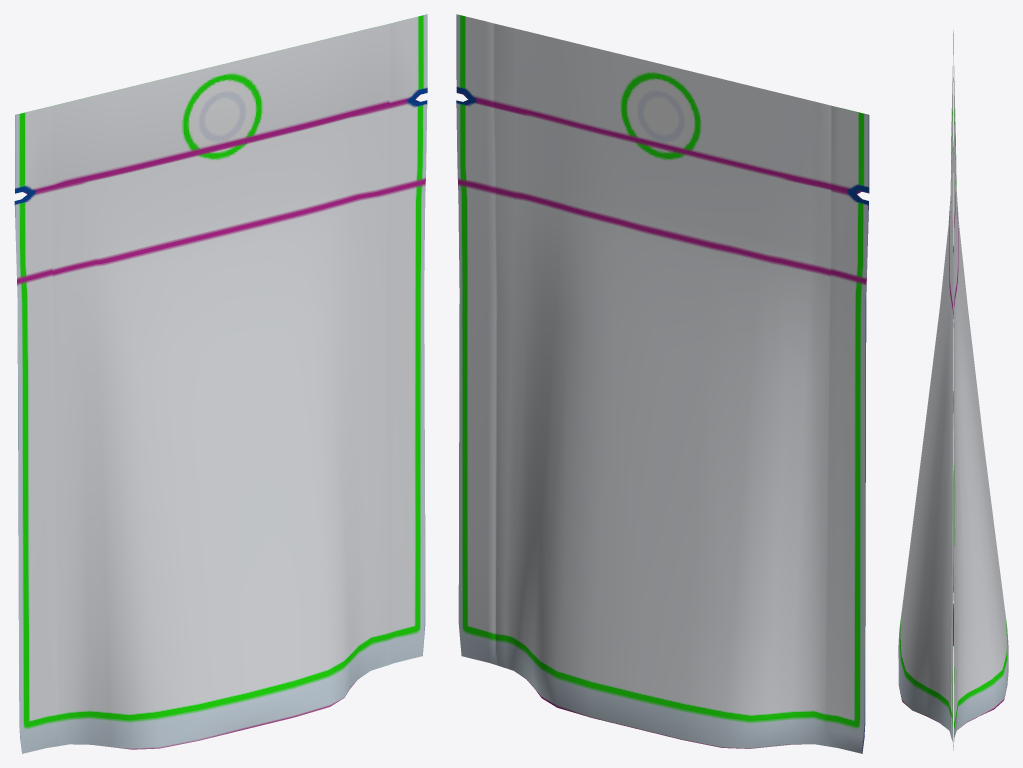
File: vistaprint-stand-up-pouch-3.25x4.75x2.glb
3 renders of one model, left to right at view 1: azimuth 30°, elevation 25°; view 2: azimuth 150°, elevation 25°; view 3: azimuth 270°, elevation 25°, orthographic. The views are drawn at different scales.
Visible parts, largest first — view 1: front; view 2: back; view 3: back, front.
Boxes of the visible parts, bbox=[...] form: front: bbox=[14, 14, 427, 753]; back: bbox=[456, 14, 869, 753]; back: bbox=[953, 30, 1008, 750]; front: bbox=[898, 33, 953, 742].
Size of the model in its own units: 0.1109 by 0.1645 by 0.0292.
1 material, 1 textured.
